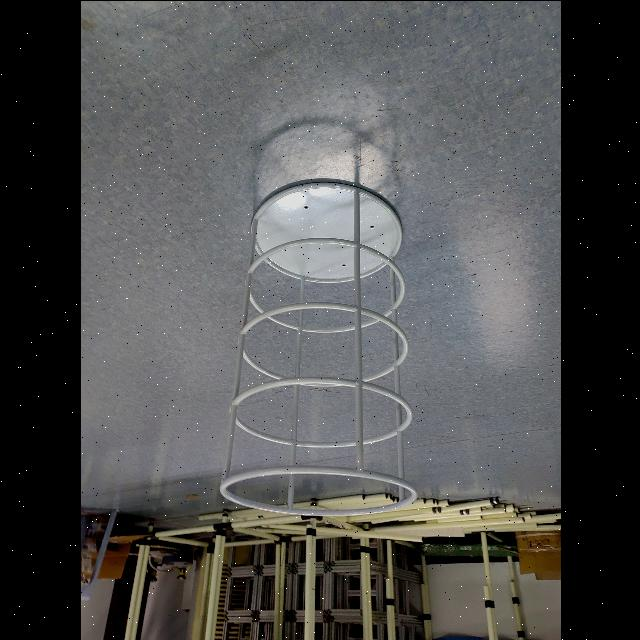S: (216, 170, 420, 524)
